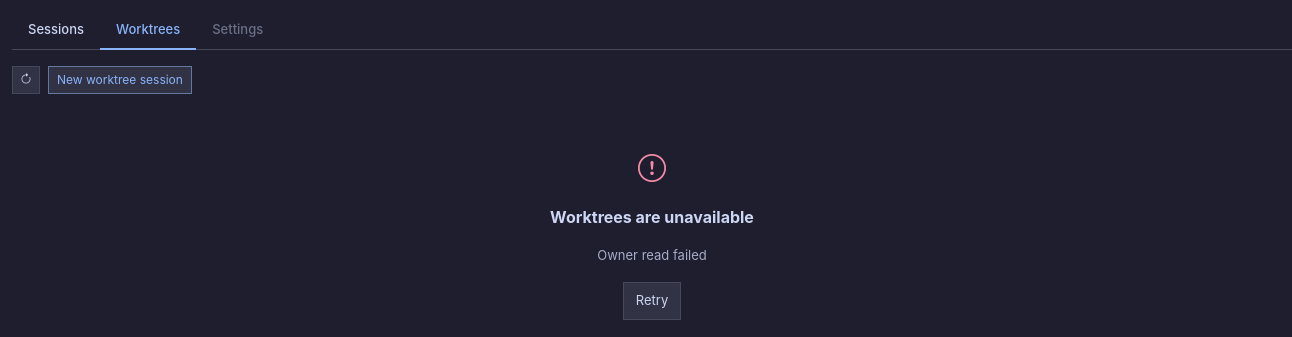
it: WorktreesView › machine ownership › retries a failed read on the same explicit owner
Expected: the message shows "Owner read failed", x1=597 y1=247 x2=707 y2=263
Click the button "Retry" at (652,301), box x1=623 y1=282 x2=681 y2=320
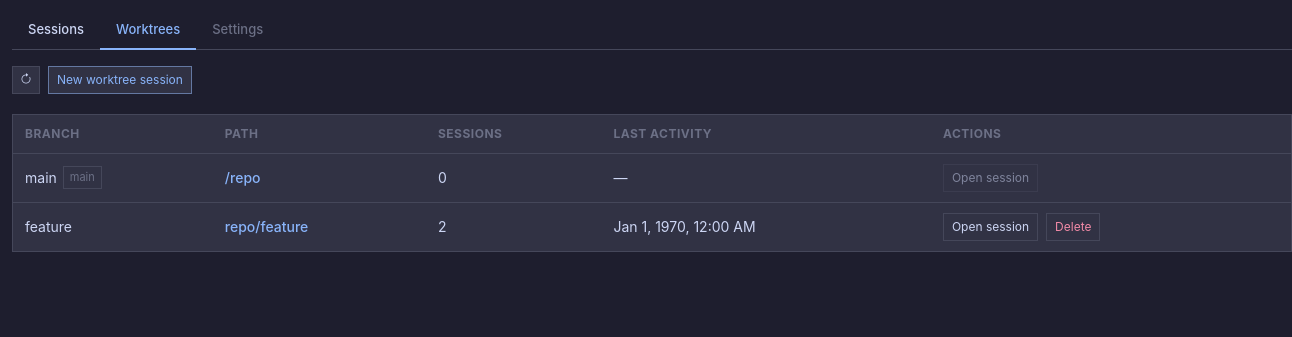
Now the text "feature" is shown, box x1=25 y1=216 x2=72 y2=237
